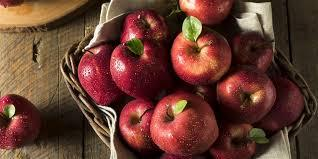apple: (159, 89, 220, 155), (170, 30, 232, 89), (114, 41, 174, 98), (220, 66, 277, 122), (256, 74, 310, 127), (1, 92, 46, 153), (117, 98, 167, 152), (79, 46, 126, 103), (118, 9, 176, 55), (210, 117, 265, 158), (176, 2, 234, 26)
